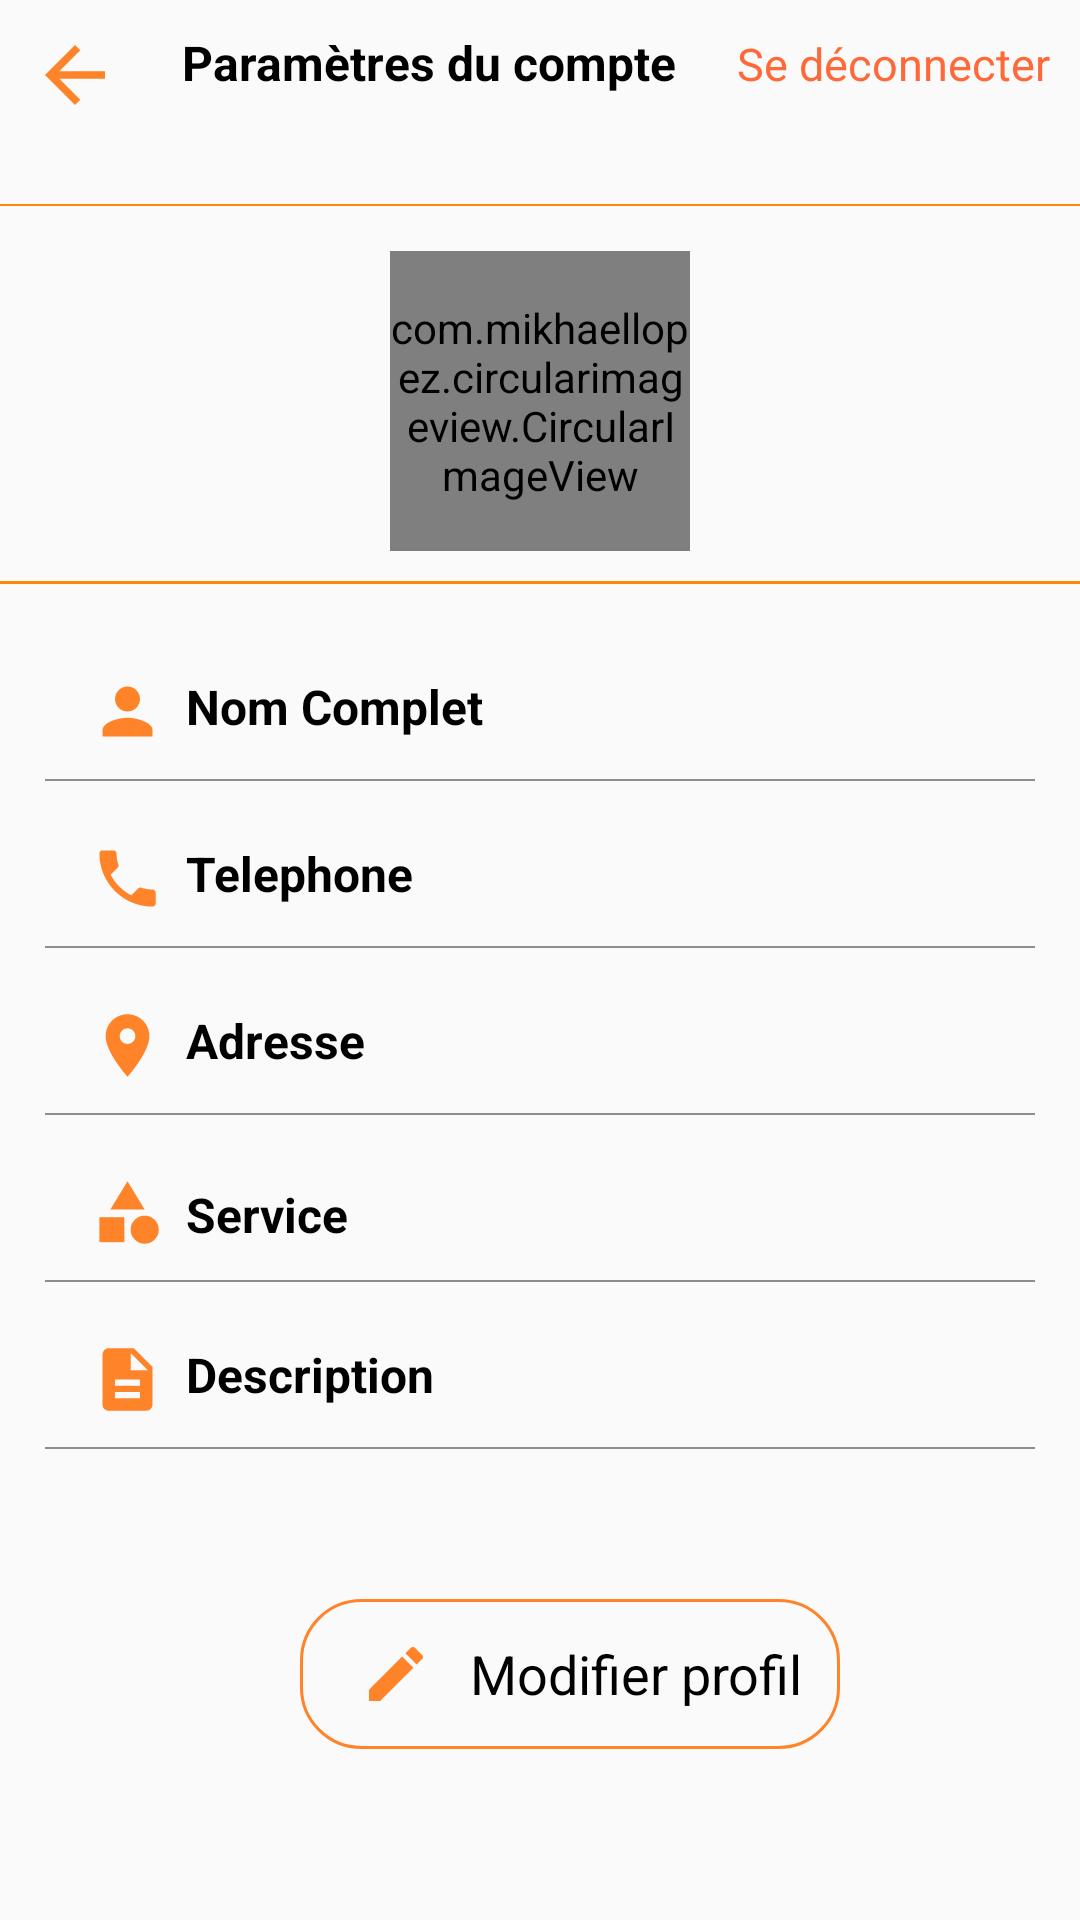

Icon click points for this 1080px×1920px phone screenshot, format [x,y]:
back: [75,75]
category: [129,1212]
location: [127,1045]
username: [127,711]
